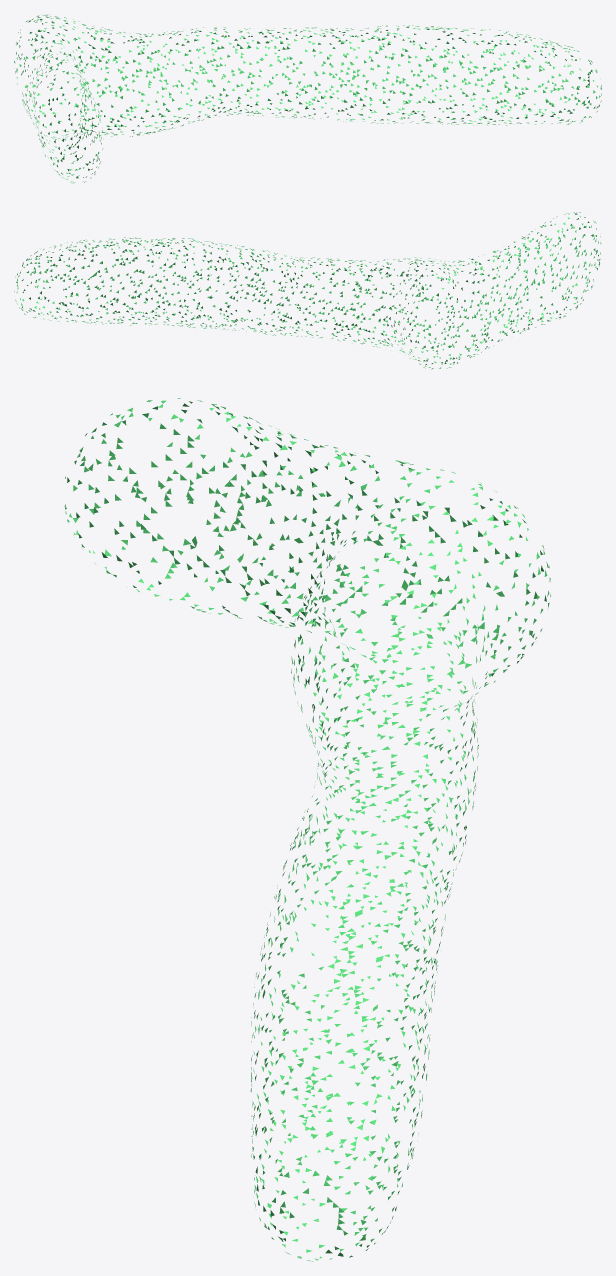
Rendered from morph_020.glb.
The picture shows the model from 3 angles, top to bottom: view 1: azimuth 30°, elevation 25°; view 2: azimuth 150°, elevation 25°; view 3: azimuth 270°, elevation 25°; orthographic projection. The views are drawn at different scales.
Size of the model in its own units: 124 by 43.47 by 50.17.
